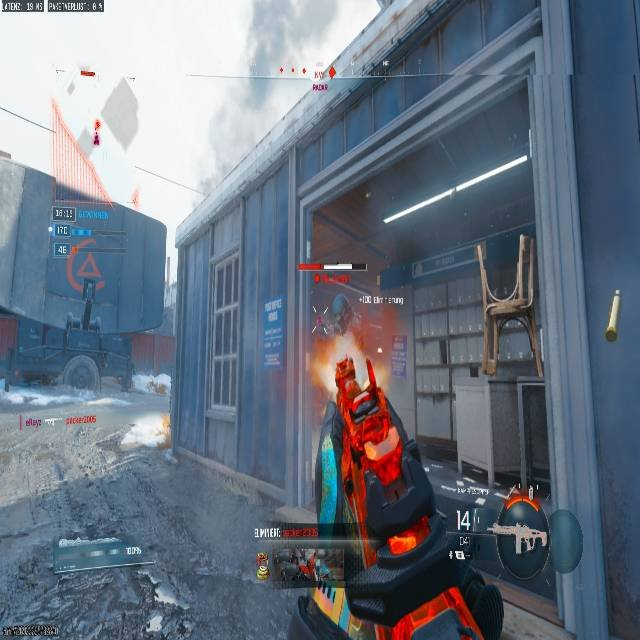player: (311, 337, 572, 639)
